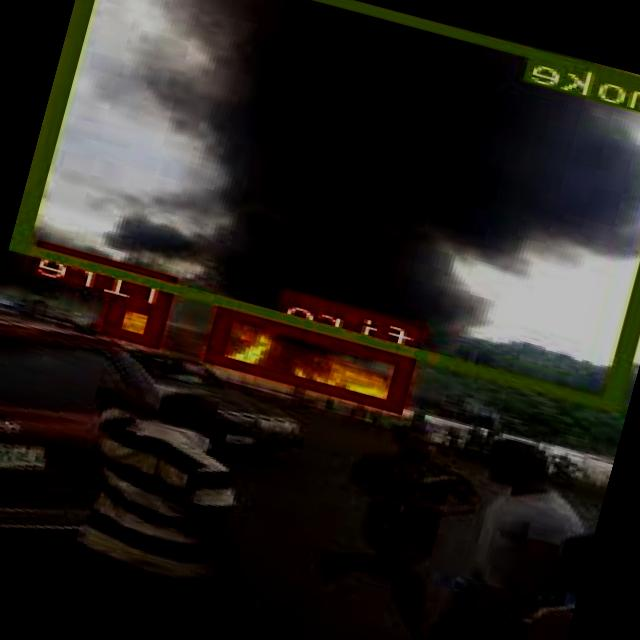fire: (208, 306, 418, 412), (107, 296, 173, 347)
smoke: (16, 0, 640, 410)
